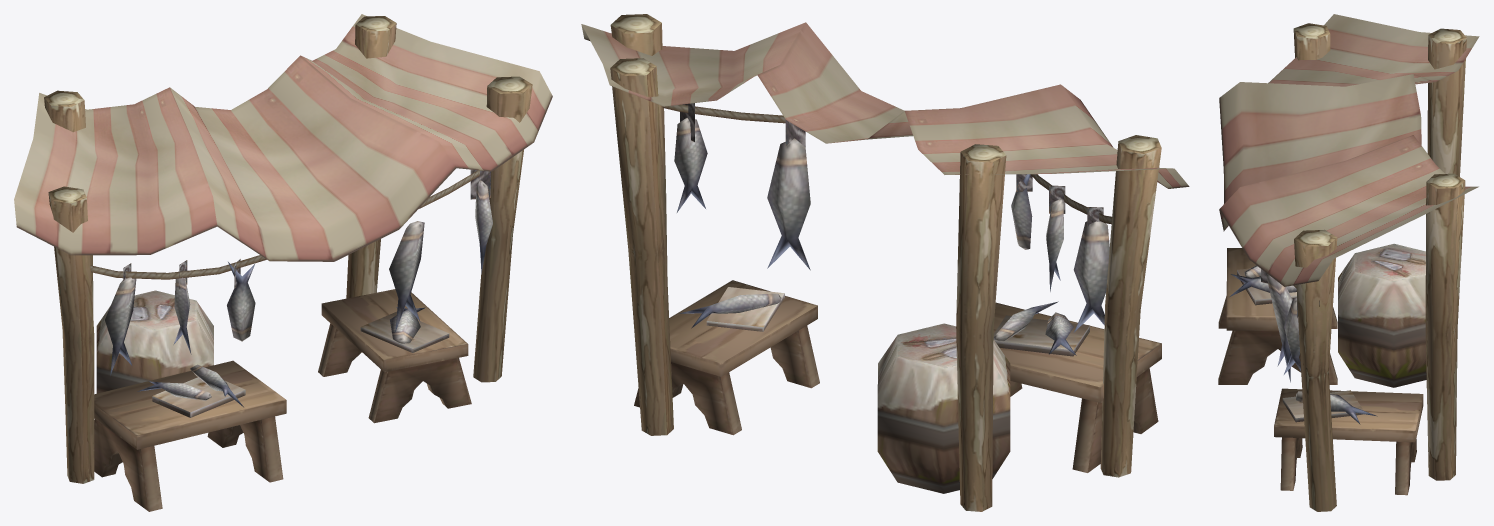
The model's file is Map_04_grocery04.FBX.
The picture shows the model from 3 angles, left to right: view 1: azimuth 30°, elevation 25°; view 2: azimuth 150°, elevation 25°; view 3: azimuth 270°, elevation 25°; orthographic projection. The views are drawn at different scales.
Visible parts, largest first — view 1: Map_04_grocery04; view 2: Map_04_grocery04; view 3: Map_04_grocery04.
Part boxes in pixels (left/top/right/bottom): Map_04_grocery04: left=14, top=14, right=552, bottom=511; Map_04_grocery04: left=581, top=14, right=1189, bottom=511; Map_04_grocery04: left=1218, top=14, right=1479, bottom=511.
Size of the model in its own units: 46.1 by 26.5 by 20.37.
